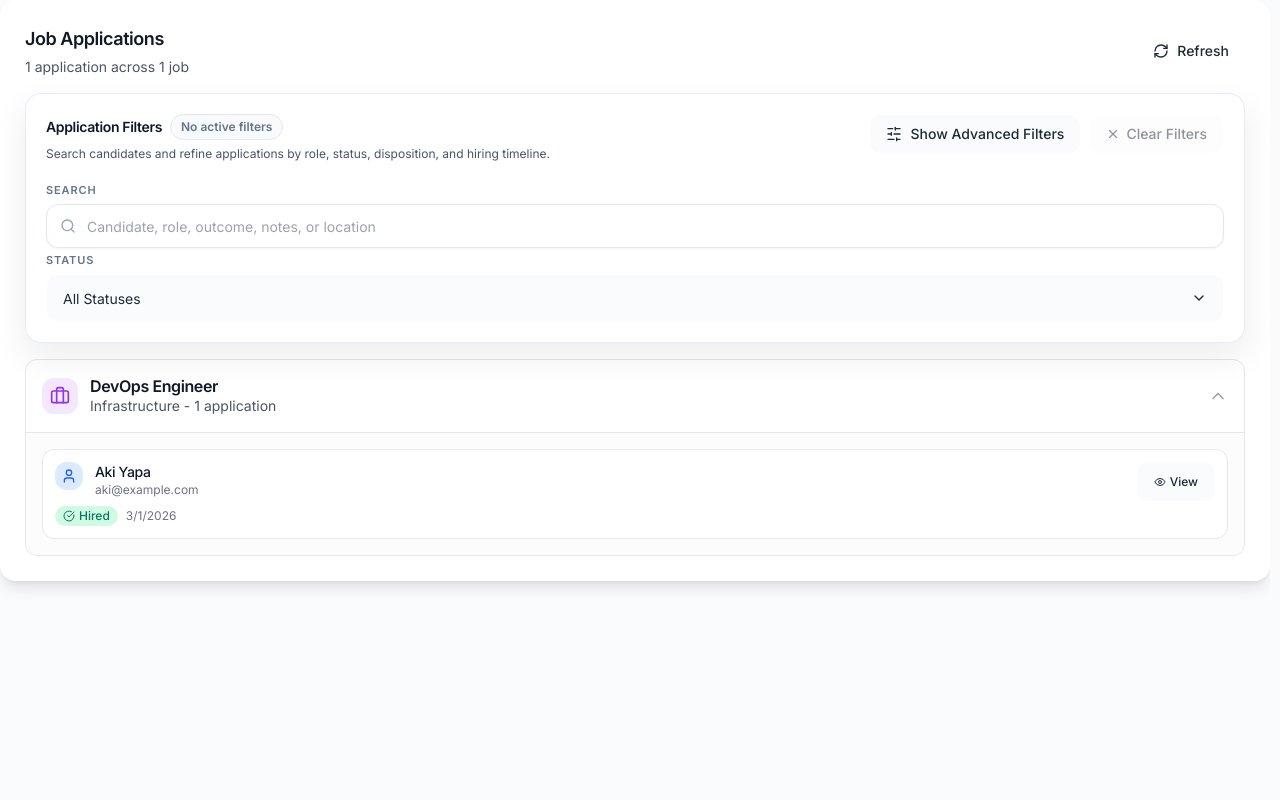
Test: ApplicationsManager role experience › shows the onboarding workspace entry point for hired applications with onboarding
The image size is (1280, 800).
Expected: the heading "Job Applications" is shown, [25,28,164,49]
Step 1. Click the button "View" → click(1176, 482), box [1137,462,1215,502]
(page scrolled)
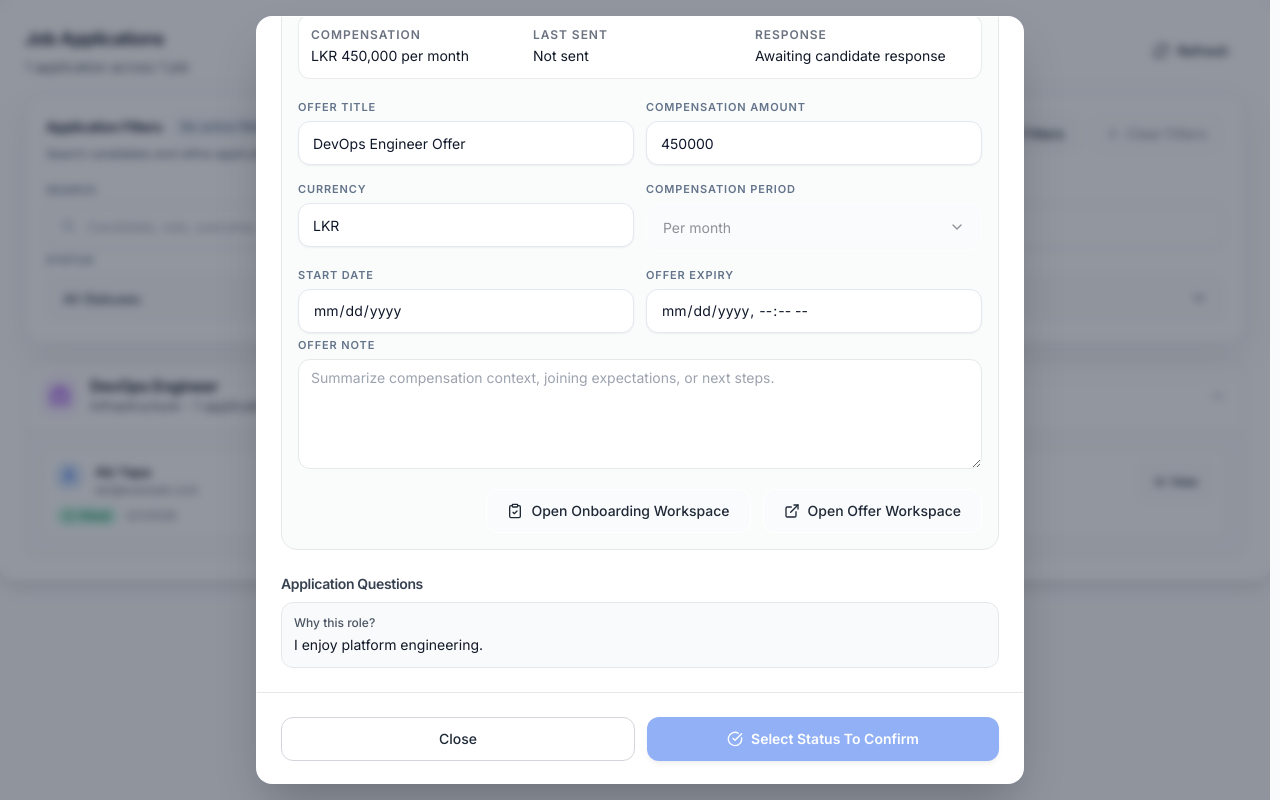
Expected: the button "Open Onboarding Workspace" is shown, [486,489,751,533]
